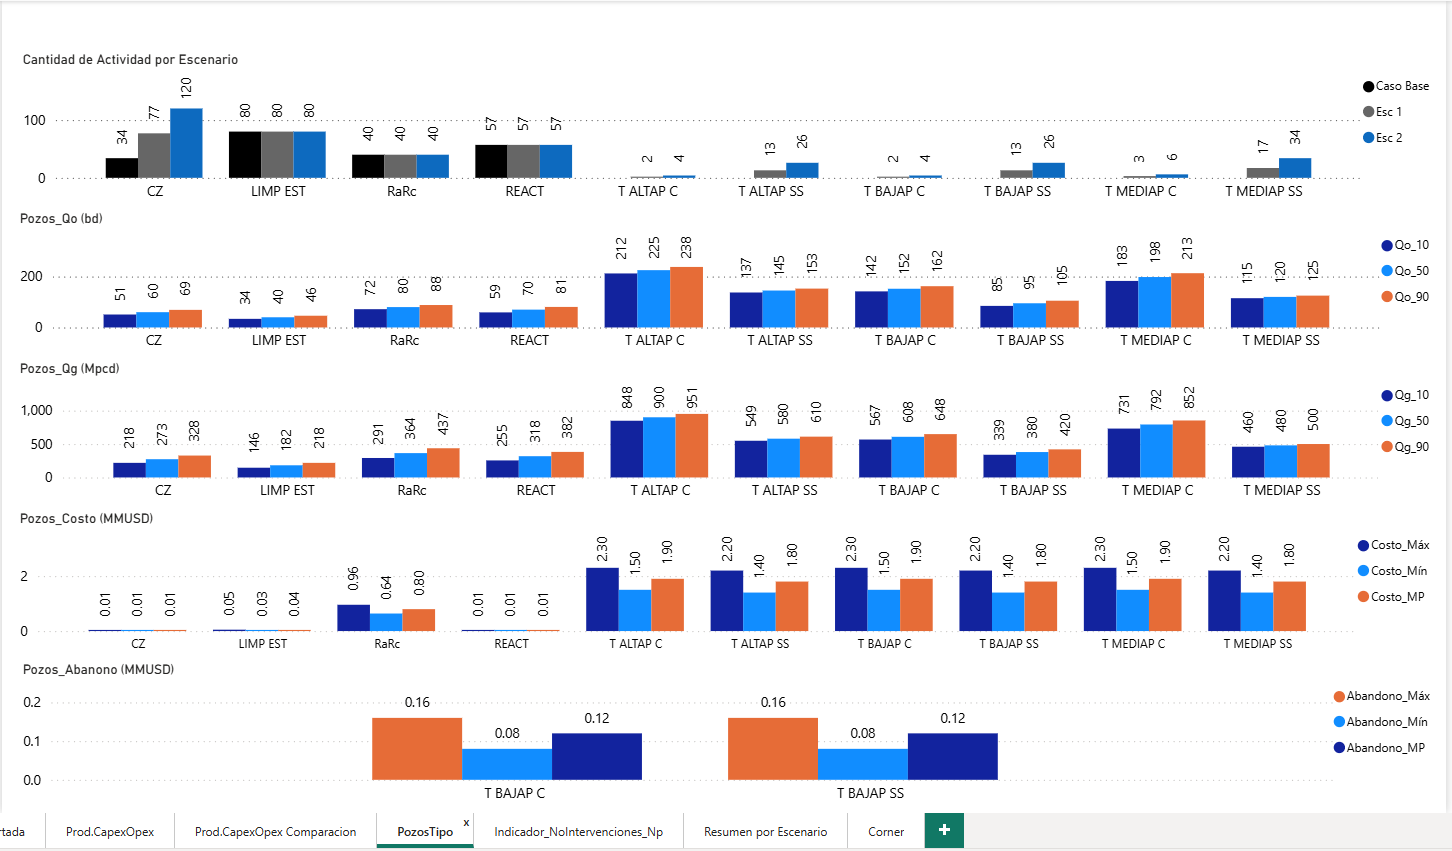

This screenshot's page, from the dashboard's own definition file:
{"tool":"powerbi","page":{"name":"PozosTipo","canvas":[1280,720],"ordinal":3},"visuals":[{"type":"clusteredColumnChart","title":"Cantidad de Actividad por Escenario","fields":{"Category":["Pozos.Pozo Tipo"],"Y":["Sum(Pozos.Valor)"],"Series":["Pozos.Escenario"]},"box":[13,45.1,1267,141.2],"z":0},{"type":"clusteredColumnChart","title":"Pozos_Qo (bd)","fields":{"Category":["Pozos.Pozo Tipo"],"Series":["Pozos.Característica"],"Y":["Avg(Pozos.Valor)"]},"box":[10.7,186.2,1269.3,132.9],"z":1000},{"type":"clusteredColumnChart","title":"Pozos_Qg (Mpcd)","fields":{"Category":["Pozos.Pozo Tipo"],"Series":["Pozos.Característica"],"Y":["Avg(Pozos.Valor)"]},"box":[10.7,319.1,1269.3,132.9],"z":2000},{"type":"clusteredColumnChart","title":"Pozos_Costo (MMUSD)","fields":{"Category":["Pozos.Pozo Tipo"],"Series":["Pozos.Característica"],"Y":["Sum(Pozos.Valor)"]},"box":[10.7,452,1269.3,134.1],"z":3000},{"type":"clusteredColumnChart","title":"Pozos_Abanono (MMUSD)","fields":{"Category":["Pozos.Pozo Tipo"],"Series":["Pozos.Característica"],"Y":["Avg(Pozos.Valor)"]},"box":[13,586,1267,134.1],"z":4000}]}

Visuals, with their boxes on the page's 1280x720 design canvas (x1, y1, x2, y2). These are canvas units, not pixel positions in the 1452x851 screenshot, which may show the page scaled, cropped or inside an application window:
"Cantidad de Actividad por Escenario" clusteredColumnChart: [13,45,1280,186]
"Pozos_Qo (bd)" clusteredColumnChart: [11,186,1280,319]
"Pozos_Qg (Mpcd)" clusteredColumnChart: [11,319,1280,452]
"Pozos_Costo (MMUSD)" clusteredColumnChart: [11,452,1280,586]
"Pozos_Abanono (MMUSD)" clusteredColumnChart: [13,586,1280,720]
